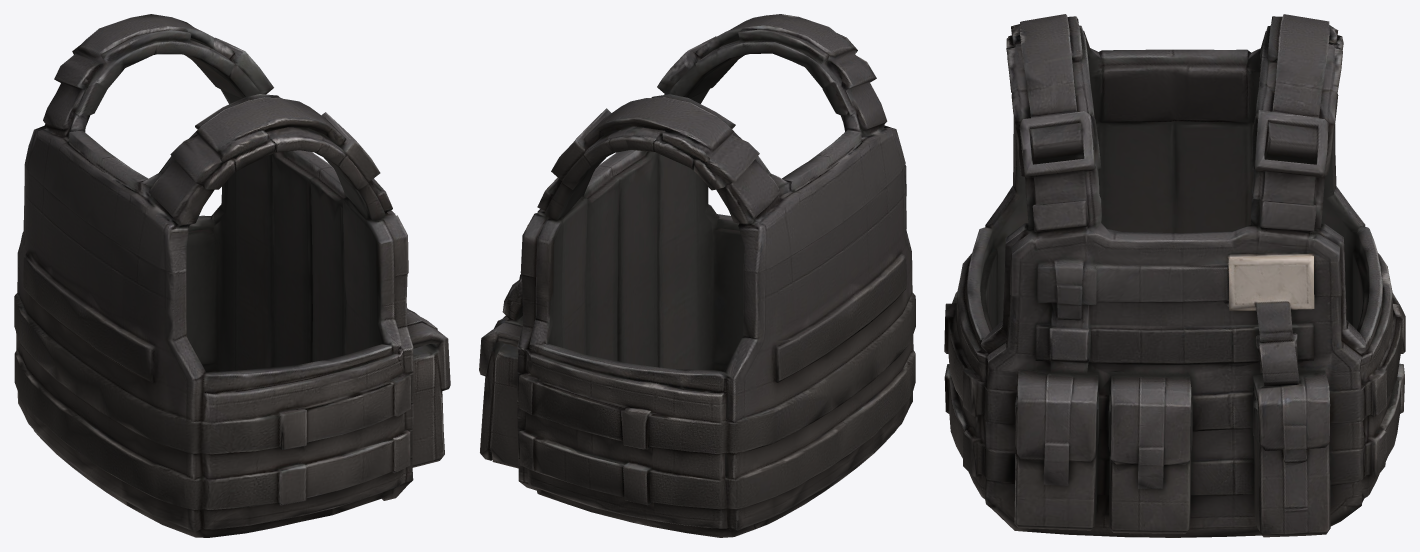
The model's file is PROP-ARMOR-CHEST.glb.
3 views of the same model, side by side, from view 1: azimuth 30°, elevation 25°; view 2: azimuth 150°, elevation 25°; view 3: azimuth 270°, elevation 25° (orthographic). The views are drawn at different scales.
Visible parts, largest first — view 1: tripo_node_840ece9e-0e2f-4a39-933f-68729b55ffa4; view 2: tripo_node_840ece9e-0e2f-4a39-933f-68729b55ffa4; view 3: tripo_node_840ece9e-0e2f-4a39-933f-68729b55ffa4.
Part boxes in pixels (x1,y1,x2,y2): tripo_node_840ece9e-0e2f-4a39-933f-68729b55ffa4: (14, 14, 450, 537); tripo_node_840ece9e-0e2f-4a39-933f-68729b55ffa4: (479, 14, 915, 537); tripo_node_840ece9e-0e2f-4a39-933f-68729b55ffa4: (944, 14, 1405, 537).
Size of the model in its own units: 0.7896 by 1 by 0.9479.
Materials: 1 (1 with a texture image).
